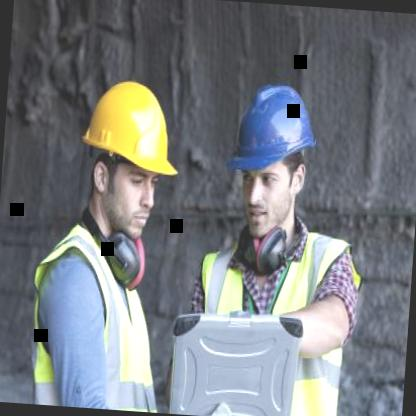helmet: (73, 62, 193, 248), (214, 70, 330, 250)
